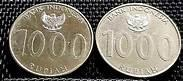coin_1000_e2010: (9, 2, 94, 77), (97, 2, 182, 76)
